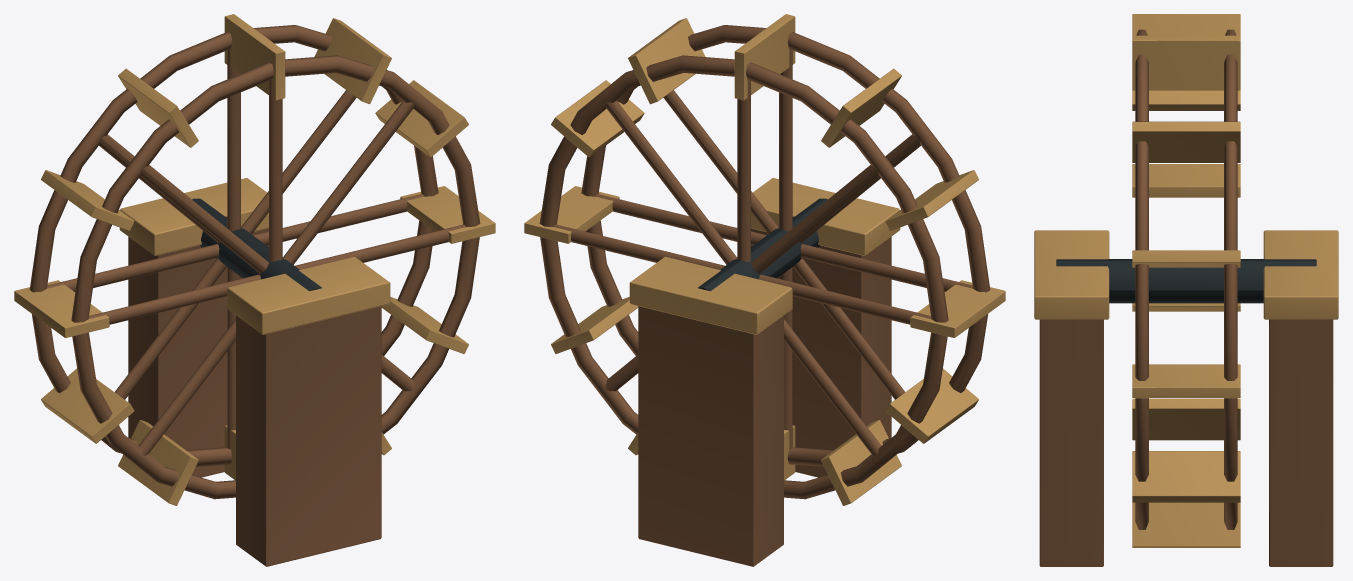
File: S097_waterwheel_rebuilt.glb
3 renders of one model, left to right at view 1: azimuth 30°, elevation 25°; view 2: azimuth 150°, elevation 25°; view 3: azimuth 270°, elevation 25°, orthographic. The views are drawn at different scales.
Visible parts, largest first — view 1: wood, edge, dark; view 2: wood, edge, dark; view 3: edge, wood, dark.
Boxes of the visible parts, left/top/right/bottom form: wood: left=29, top=25, right=480, bottom=566; edge: left=14, top=14, right=495, bottom=505; dark: left=192, top=198, right=321, bottom=291; wood: left=539, top=25, right=990, bottom=566; edge: left=524, top=14, right=1005, bottom=505; dark: left=698, top=198, right=827, bottom=291; edge: left=1034, top=14, right=1338, bottom=547; wood: left=1039, top=29, right=1333, bottom=566; dark: left=1056, top=259, right=1316, bottom=303.
Size of the model in its own units: 2.34 by 2.43 by 1.35.
